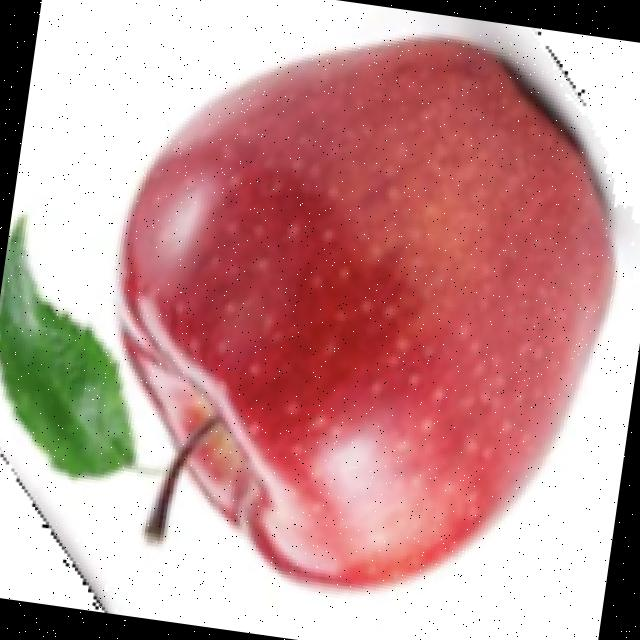apple: (0, 18, 640, 601)
